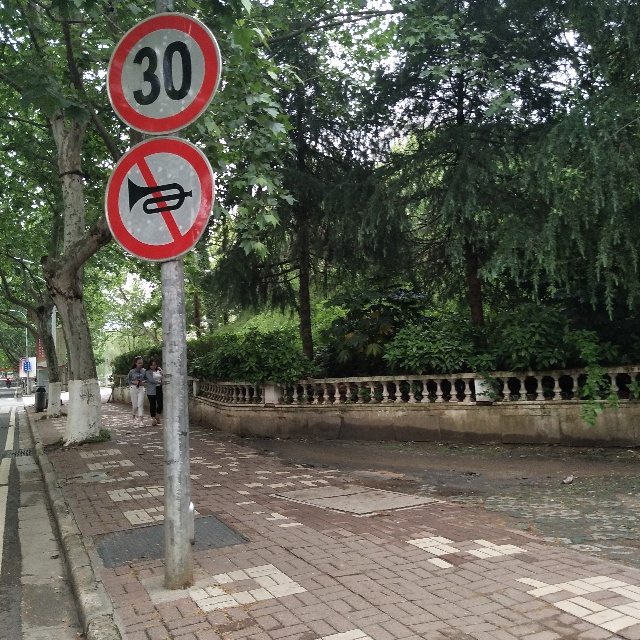nohonk: (111, 140, 210, 249)
